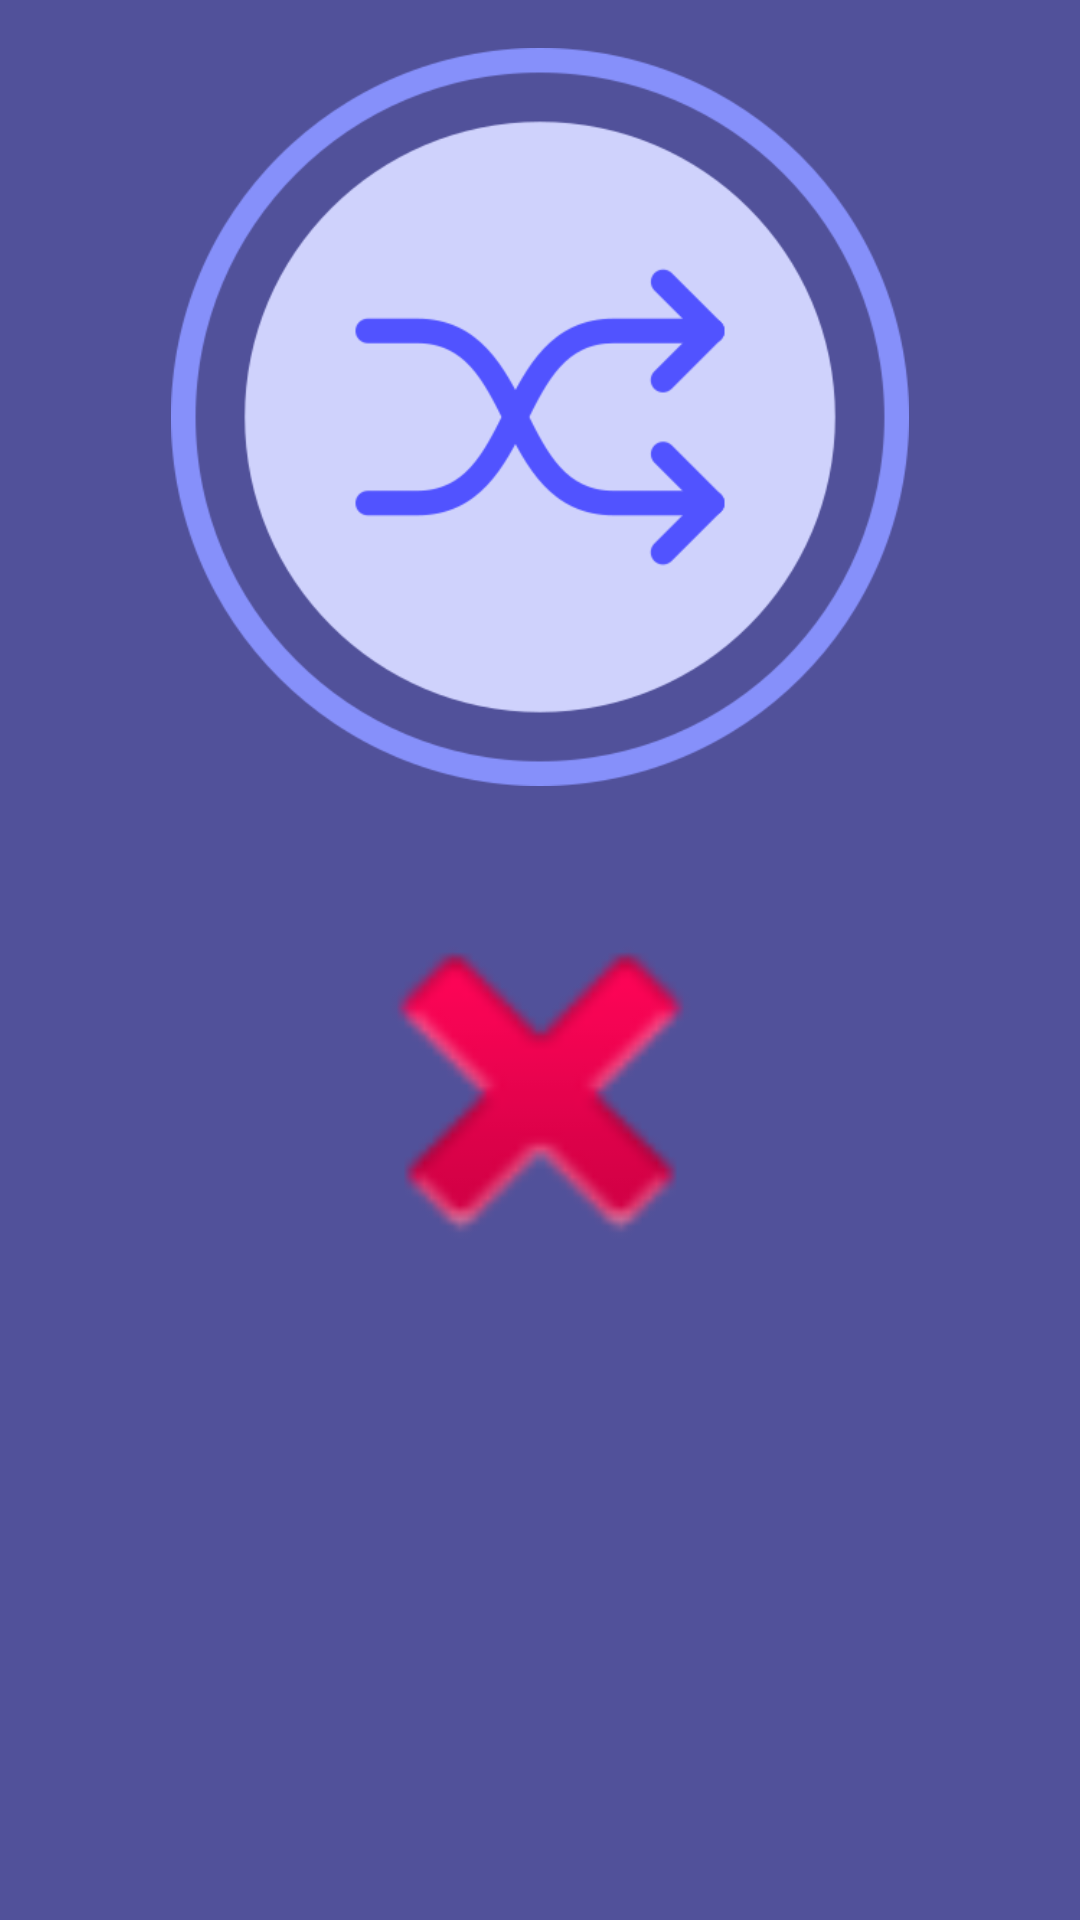

Icons on this 1080x1920 Android screen, each with its box as region(x1, y1, x2, y2):
delete: region(398, 954, 683, 1230)
